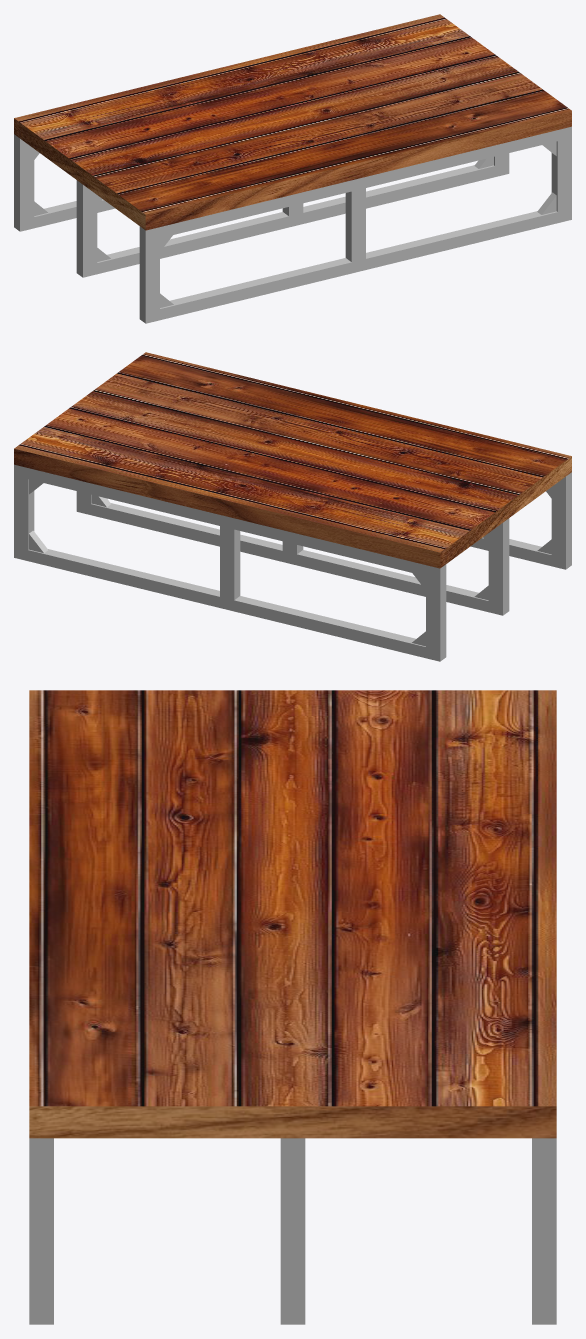
3 views of the same model, one above another, from view 1: azimuth 30°, elevation 25°; view 2: azimuth 150°, elevation 25°; view 3: azimuth 270°, elevation 25° (orthographic). The views are drawn at different scales.
Parts seen in each view (by area): view 1: Box001, Box002, Box004, Box003; view 2: Box001, Box003, Box004, Box002; view 3: Box001, Box004, Box002, Box003.
Boxes of the visible parts, left/top/right/bottom form: Box001: left=14, top=14, right=571, bottom=230; Box002: left=139, top=126, right=571, bottom=323; Box004: left=76, top=153, right=509, bottom=277; Box003: left=14, top=134, right=115, bottom=231; Box001: left=14, top=352, right=571, bottom=568; Box003: left=14, top=464, right=446, bottom=661; Box004: left=76, top=491, right=509, bottom=615; Box002: left=470, top=472, right=571, bottom=569; Box001: left=29, top=690, right=556, bottom=1138; Box004: left=280, top=1138, right=305, bottom=1324; Box002: left=29, top=1138, right=53, bottom=1324; Box003: left=532, top=1138, right=556, bottom=1324.
Size of the model in its own units: 280 by 150 by 68.5.
